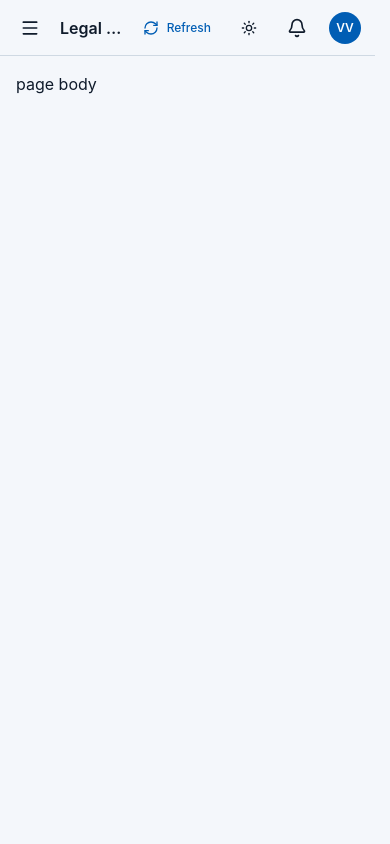
it: AppShell › opens the navigation sheet from the hamburger on a phone and closes it on navigate
The width and height of the screenshot is (390, 844).
Click the button named "open navigation" at (30, 28), box [8,6,52,50]
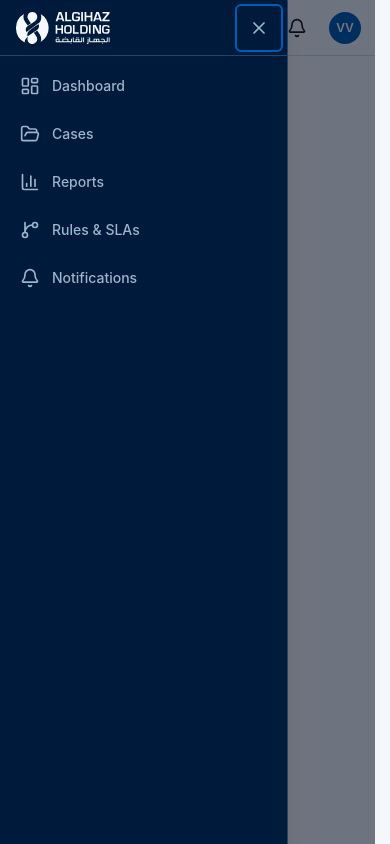
Check: the links read "Dashboard", "Cases", "Reports", "Rules & SLAs", "Notifications", in this order
Click the link "Reports" at (62, 182), box [20,172,104,192]
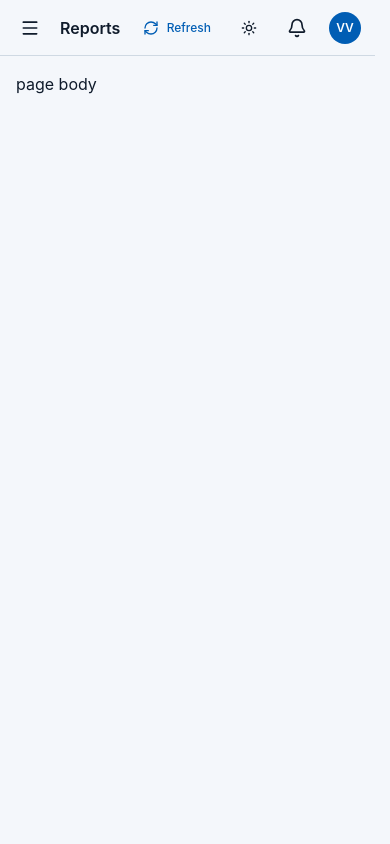
Check: the dialog is gone
